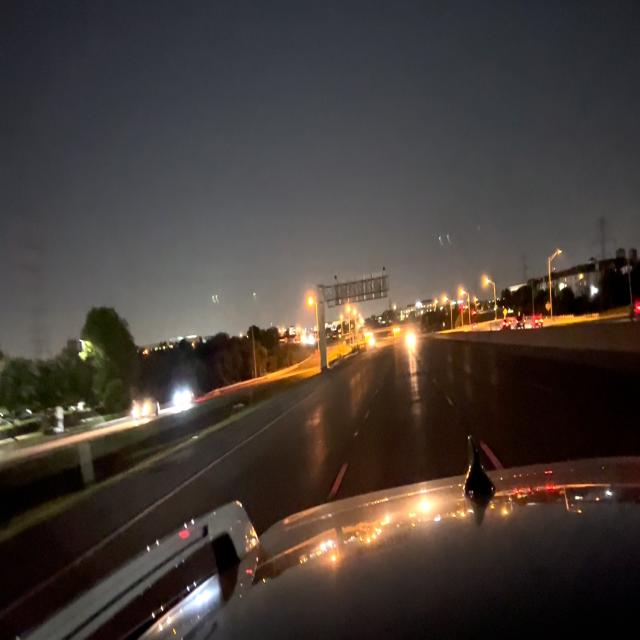back-of-sign: (334, 267, 389, 308)
